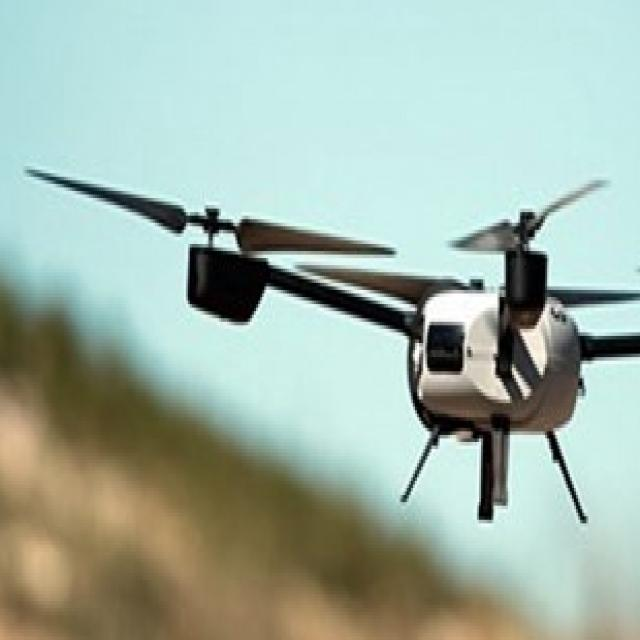drone: (0, 102, 640, 530)
